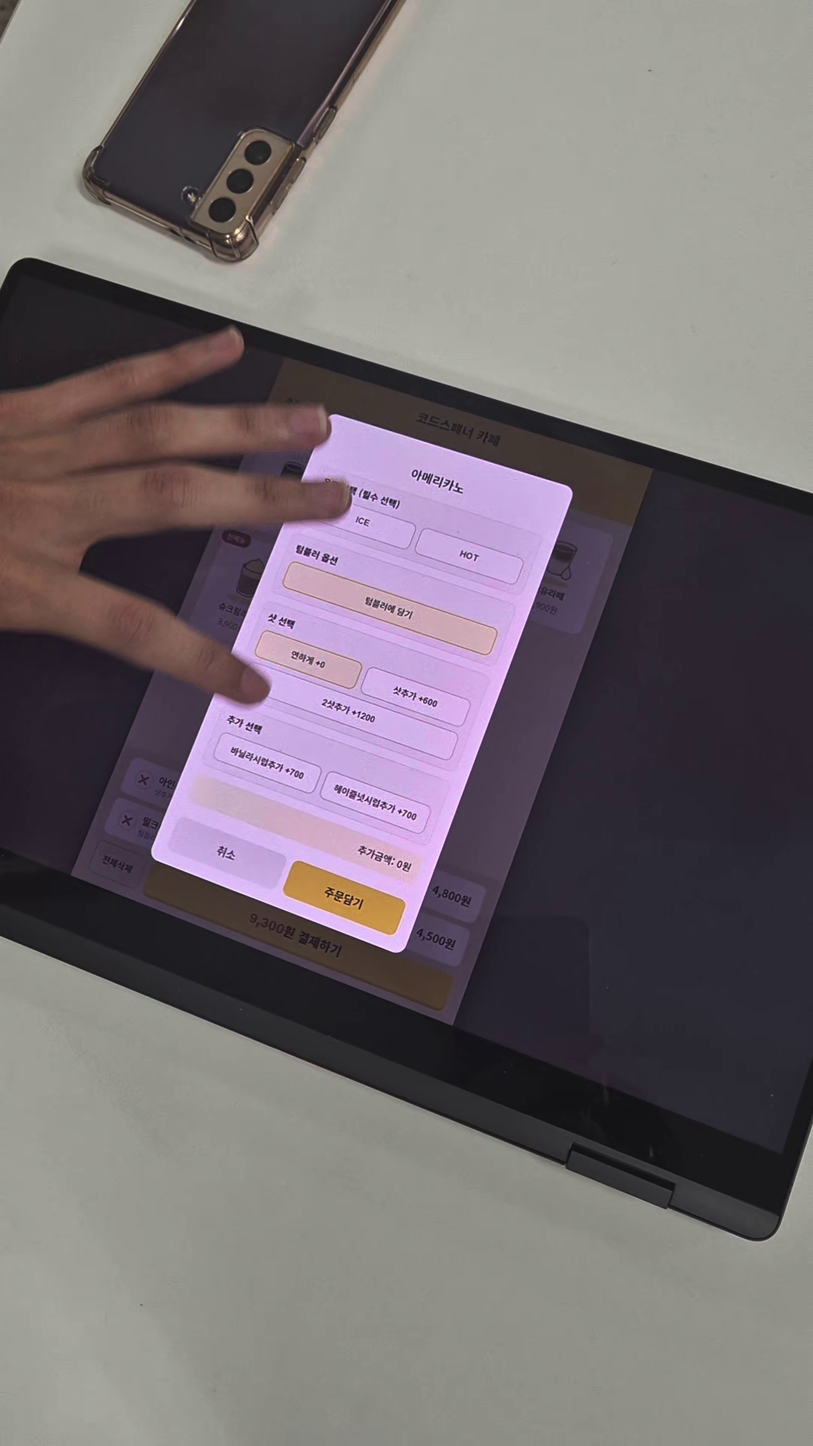action_button: (137, 405, 579, 968), (279, 858, 408, 940), (165, 812, 289, 891)
menu_name: (403, 459, 475, 503)
option_button: (277, 557, 502, 662), (242, 662, 461, 767), (356, 662, 473, 730), (321, 769, 434, 836), (410, 526, 528, 589), (254, 628, 363, 693), (211, 730, 320, 793), (314, 493, 419, 552)
